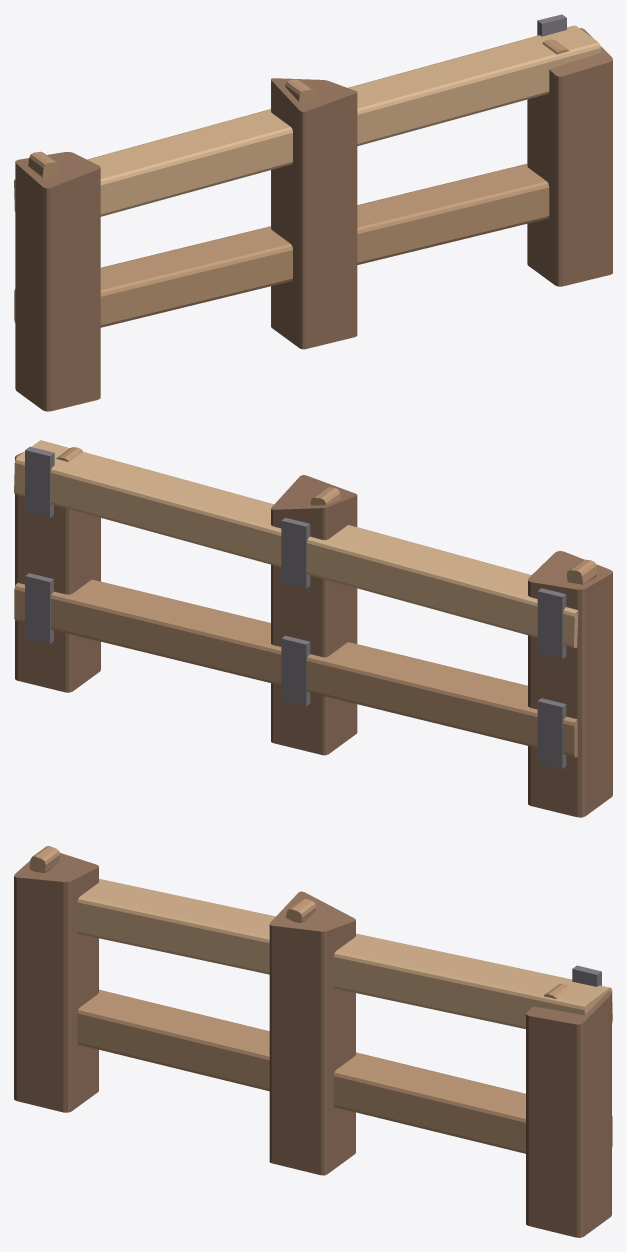
The model's file is Kit_Fence.fbx.
3 views of the same model, one above another, from view 1: azimuth 30°, elevation 25°; view 2: azimuth 150°, elevation 25°; view 3: azimuth 330°, elevation 25° (orthographic).
Visible parts, largest first — view 1: Kit_Fence; view 2: Kit_Fence; view 3: Kit_Fence.
Part boxes in pixels (bbox=[...]): Kit_Fence: bbox=[14, 14, 612, 411]; Kit_Fence: bbox=[14, 440, 612, 817]; Kit_Fence: bbox=[14, 846, 612, 1237].
Bounding box in the file's own units: 2.4 × 1 × 0.2695.
